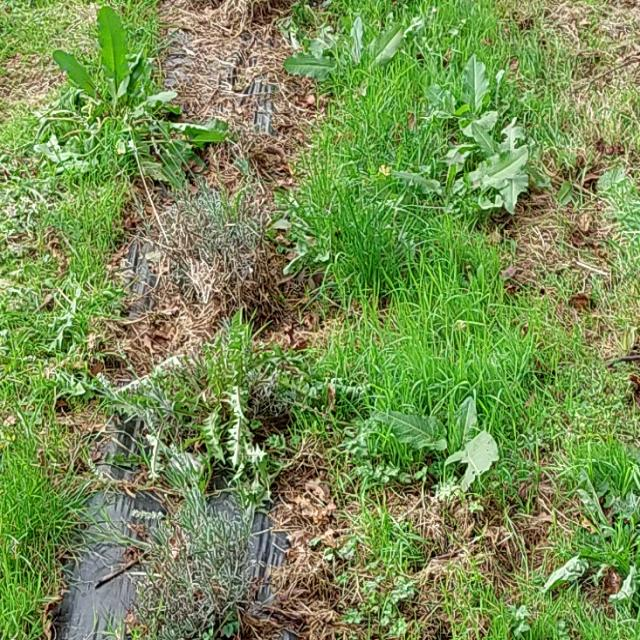organic waste: (9, 0, 256, 230), (398, 111, 576, 232), (389, 374, 542, 510), (289, 0, 440, 106), (553, 479, 640, 638), (417, 56, 529, 157)
